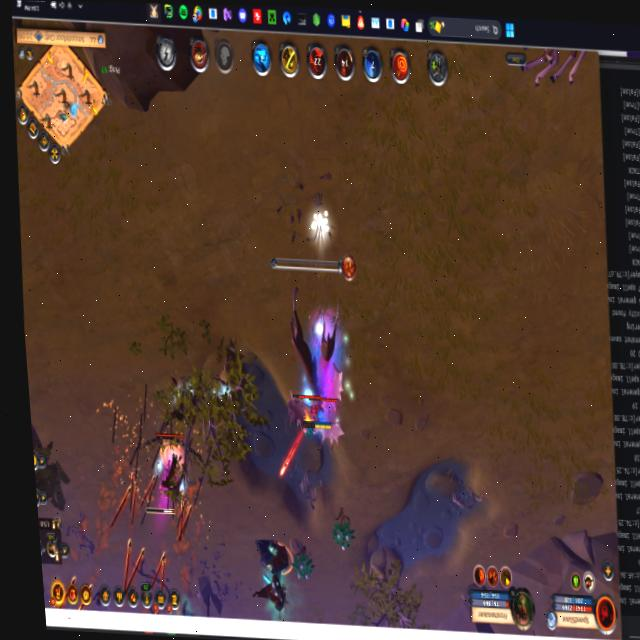hide: (329, 510, 357, 553), (289, 543, 315, 585)
ore: (275, 288, 360, 450), (139, 425, 191, 518), (247, 533, 296, 618), (148, 371, 203, 444)
red: (296, 385, 335, 434)
stone: (309, 204, 331, 242)
